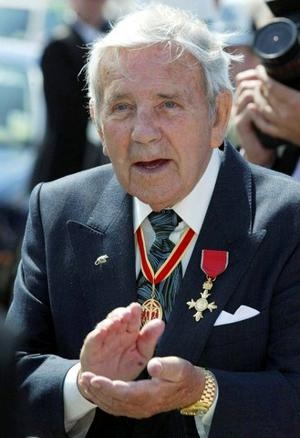person without safety: (6, 1, 293, 355)
